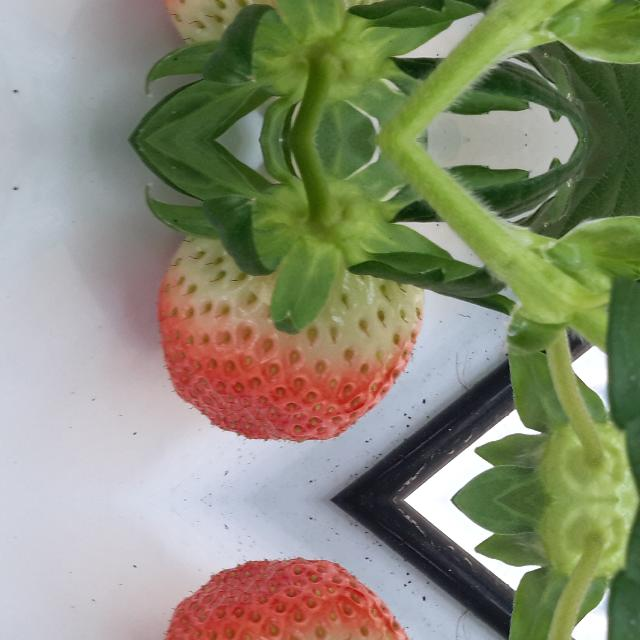Health_100: (156, 233, 424, 442), (156, 558, 424, 640), (156, 0, 424, 47)
